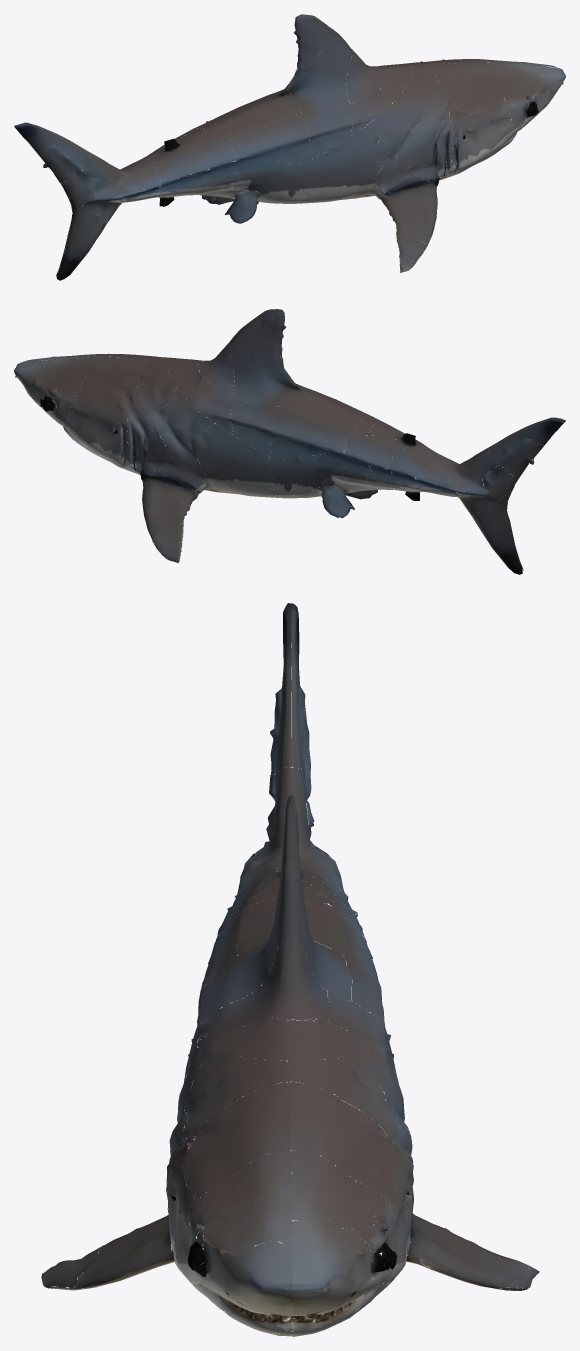
File: shark.glb
The picture shows the model from 3 angles, top to bottom: view 1: azimuth 30°, elevation 25°; view 2: azimuth 150°, elevation 25°; view 3: azimuth 270°, elevation 25°; orthographic projection. The views are drawn at different scales.
Parts seen in each view (by area): view 1: tripo_node_c731c96b-0103-4a4c-8efa-f5da1d770a4e; view 2: tripo_node_c731c96b-0103-4a4c-8efa-f5da1d770a4e; view 3: tripo_node_c731c96b-0103-4a4c-8efa-f5da1d770a4e.
Boxes of the visible parts, x1,y1,x2,y2 form: tripo_node_c731c96b-0103-4a4c-8efa-f5da1d770a4e: (14,14,565,280); tripo_node_c731c96b-0103-4a4c-8efa-f5da1d770a4e: (14,309,565,574); tripo_node_c731c96b-0103-4a4c-8efa-f5da1d770a4e: (41,603,539,1336).
Size of the model in its own units: 1 by 0.3877 by 0.3951.
Materials: 1 (1 with a texture image).
